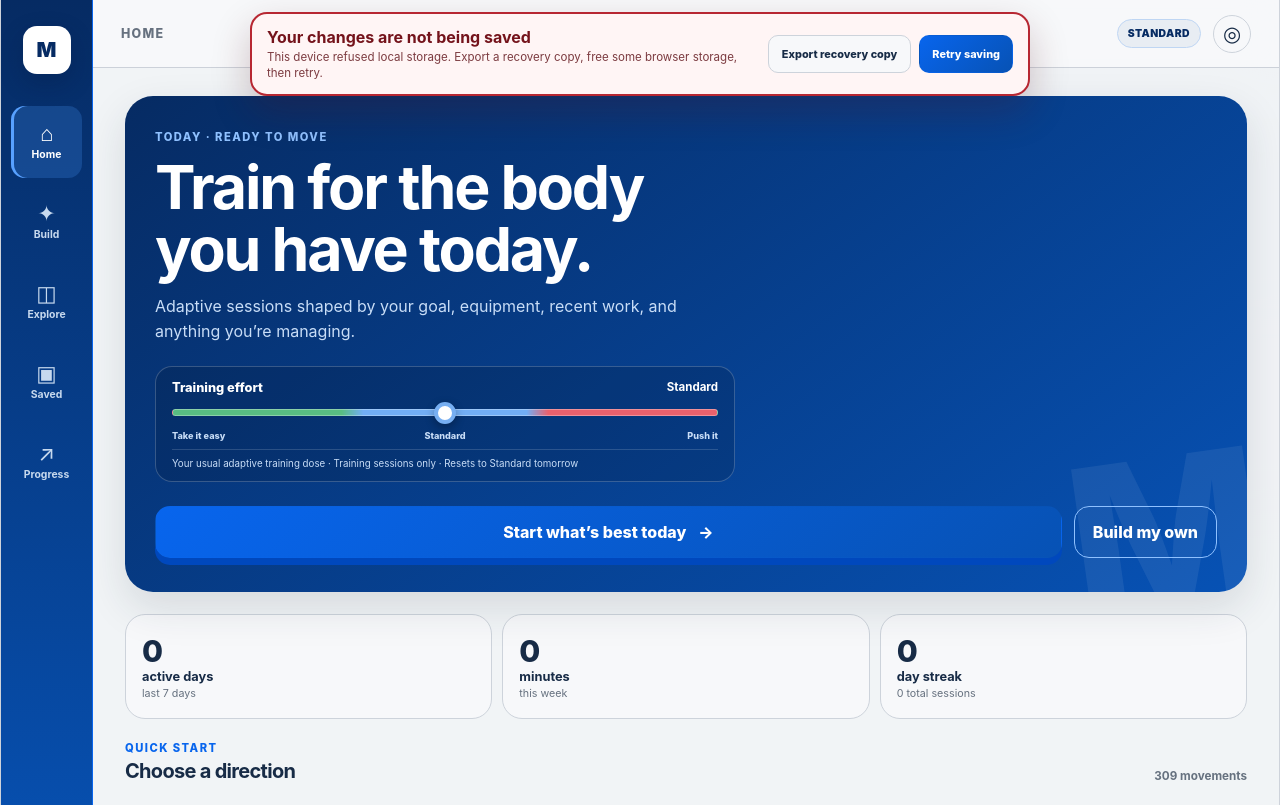
Test: shows a recoverable warning when local persistence fails
The width and height of the screenshot is (1280, 805).
Expected: the message shows "Your changes are not being saved", [267,27,531,47]
Click the button "Retry saving".
click(966, 54)  # box [919,35,1013,73]
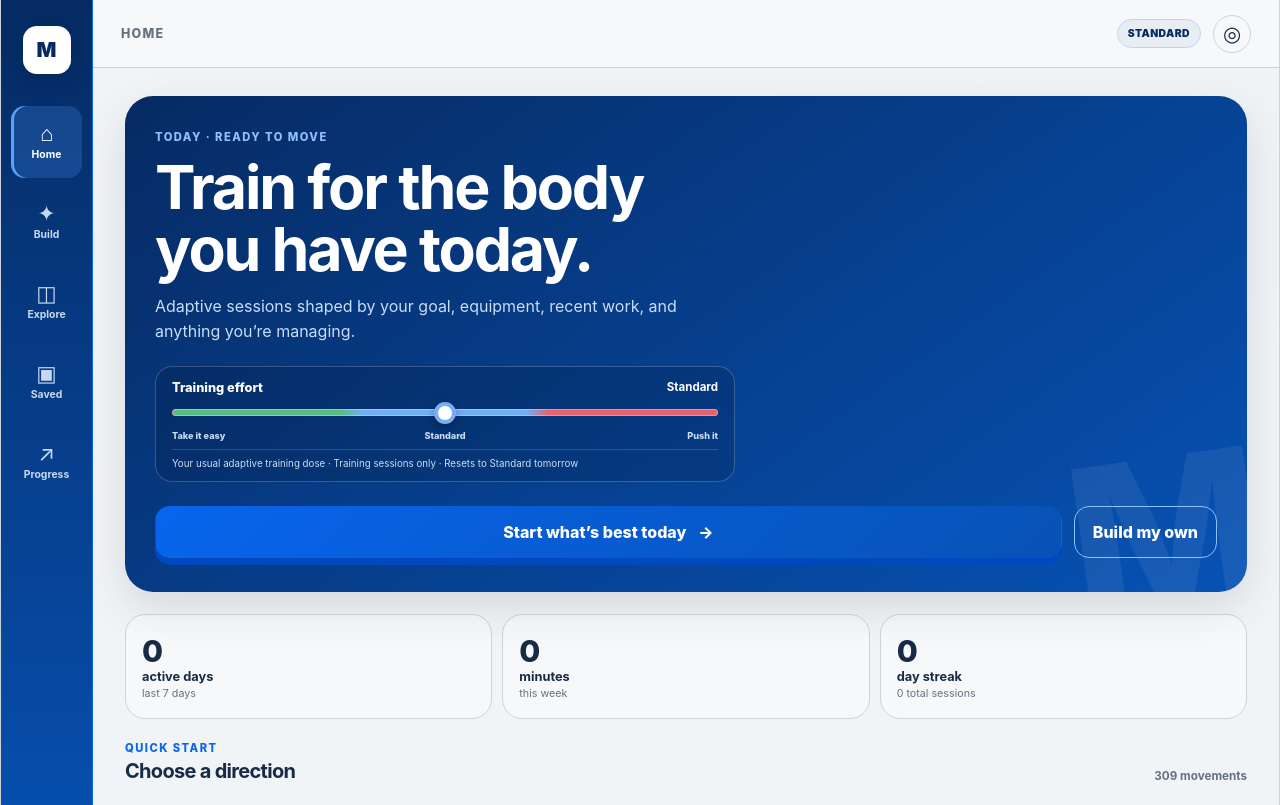
Result: the message is gone
